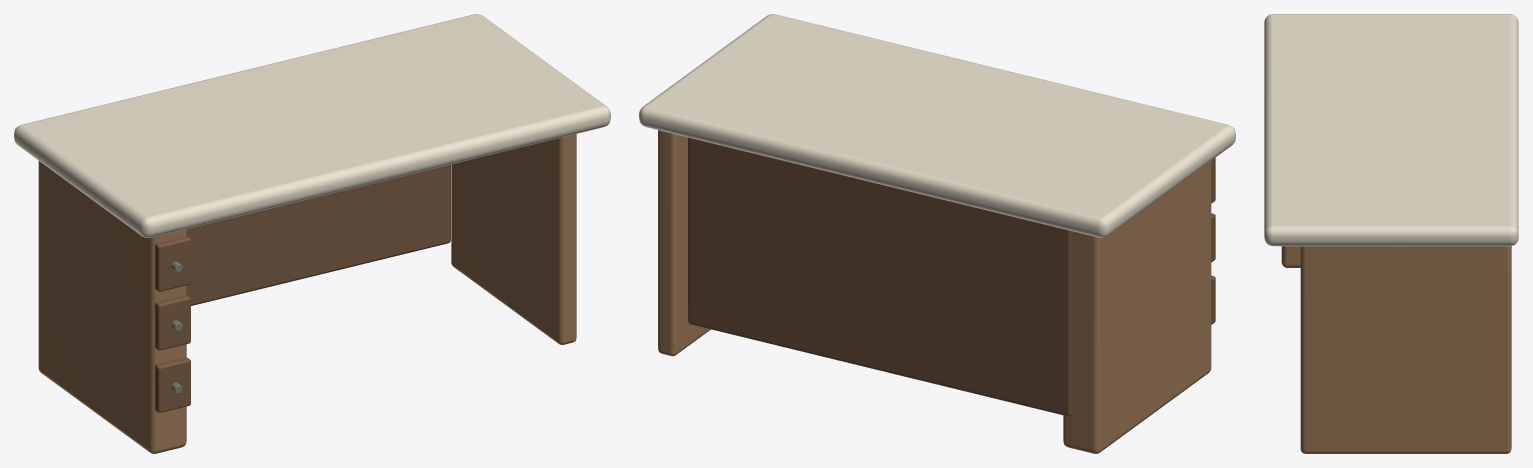
The model's file is desk.glb.
3 views of the same model, side by side, from view 1: azimuth 30°, elevation 25°; view 2: azimuth 150°, elevation 25°; view 3: azimuth 270°, elevation 25° (orthographic). The views are drawn at different scales.
Visible parts, largest first — view 1: Desk Top, Desk Left Pedestal, Desk Modesty Panel, Desk Right Side, Drawer 1, Drawer 3, Drawer 2; view 2: Desk Modesty Panel, Desk Top, Desk Left Pedestal, Desk Right Side; view 3: Desk Top, Desk Right Side, Desk Left Pedestal.
Boxes of the visible parts, box(x1,y1,x2,y2) form: Desk Top: box(14, 14, 610, 237); Desk Left Pedestal: box(38, 161, 186, 453); Desk Modesty Panel: box(186, 164, 450, 305); Desk Right Side: box(451, 134, 576, 344); Drawer 1: box(155, 236, 190, 291); Drawer 3: box(155, 357, 190, 412); Drawer 2: box(155, 295, 190, 350); Desk Modesty Panel: box(688, 137, 1071, 416); Desk Top: box(639, 14, 1235, 237); Desk Left Pedestal: box(1063, 161, 1211, 453); Desk Right Side: box(658, 130, 710, 356); Desk Top: box(1264, 14, 1518, 246); Desk Right Side: box(1300, 246, 1511, 453); Desk Left Pedestal: box(1281, 246, 1300, 267).
Bounding box in the file's own units: 0.71 × 0.355 × 0.35.
